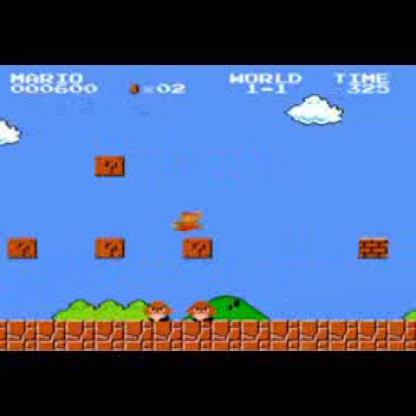Goomba: (143, 298, 174, 322), (188, 295, 214, 319)
